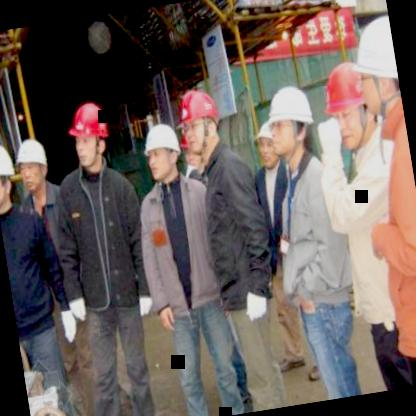helmet: (348, 10, 405, 132), (319, 57, 378, 154), (259, 78, 318, 166), (62, 96, 117, 172), (176, 84, 226, 162), (138, 116, 186, 185), (12, 132, 56, 195), (0, 134, 22, 213), (249, 119, 280, 170)
